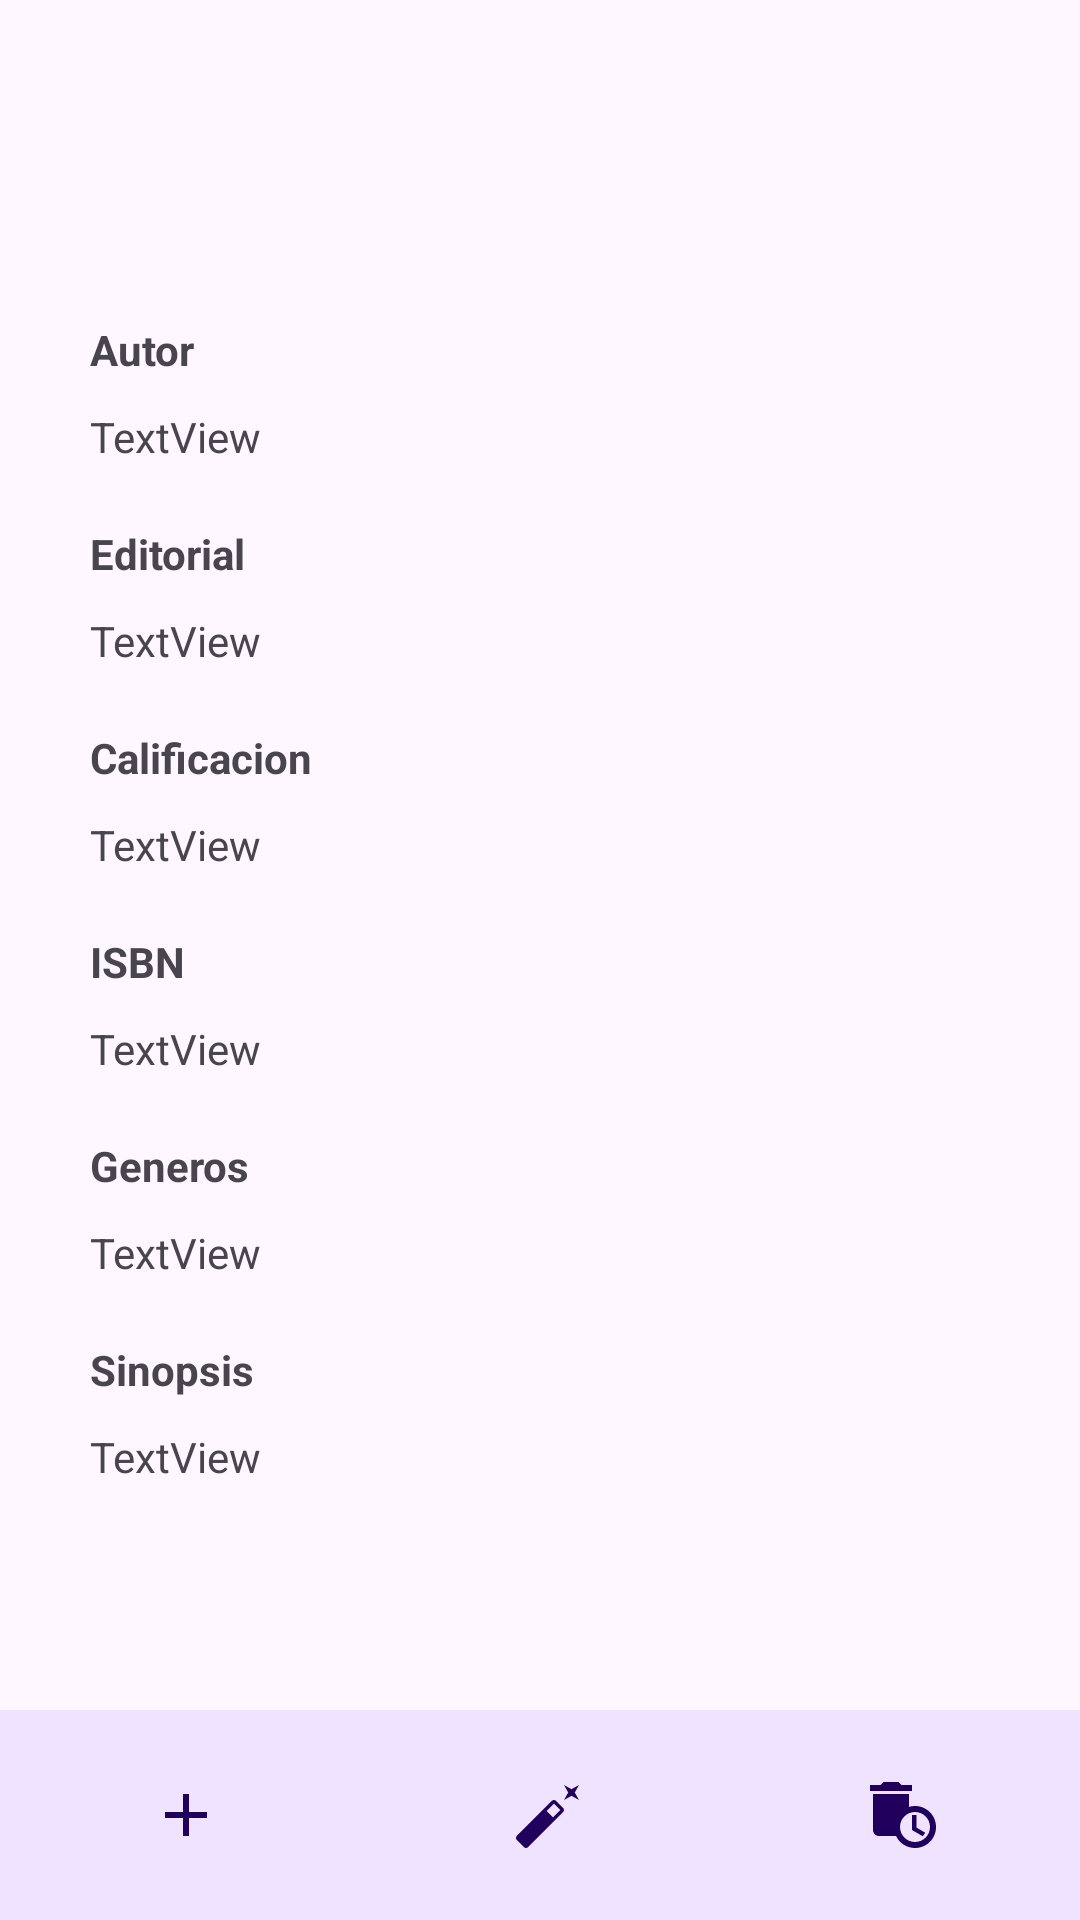

Named icons in this screenshot (1080px×1920px) and their bounding boxes, (x1, y1, x2, y2):
add: (165, 1794, 207, 1836)
auto delete: (870, 1782, 936, 1848)
auto fix: (516, 1785, 579, 1848)
